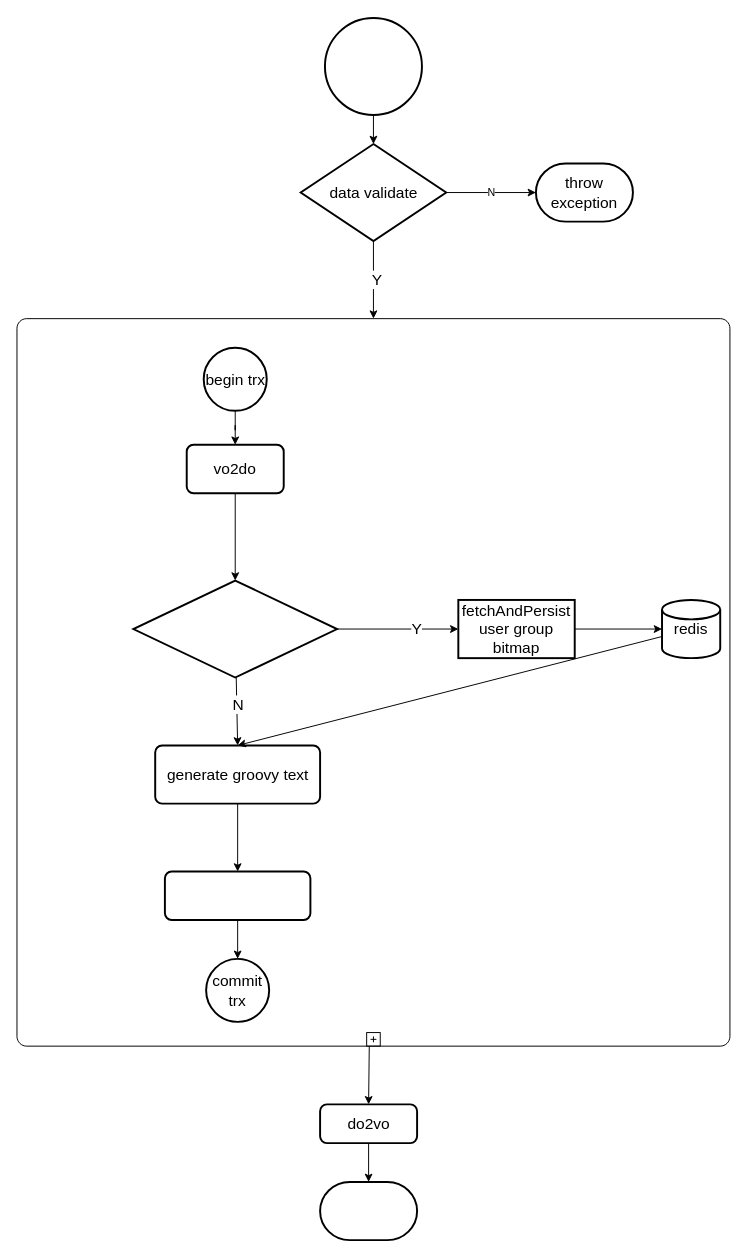
This 747x1257 diagram has some shape labels left out. The box of each missing label's shape, as (x1, y1, x2, y2) in pixels:
create rule: (323, 16, 422, 115)
End: (319, 1180, 418, 1241)
usergroup判空: (132, 579, 338, 678)
将创建的规则持久化: (163, 870, 311, 921)
